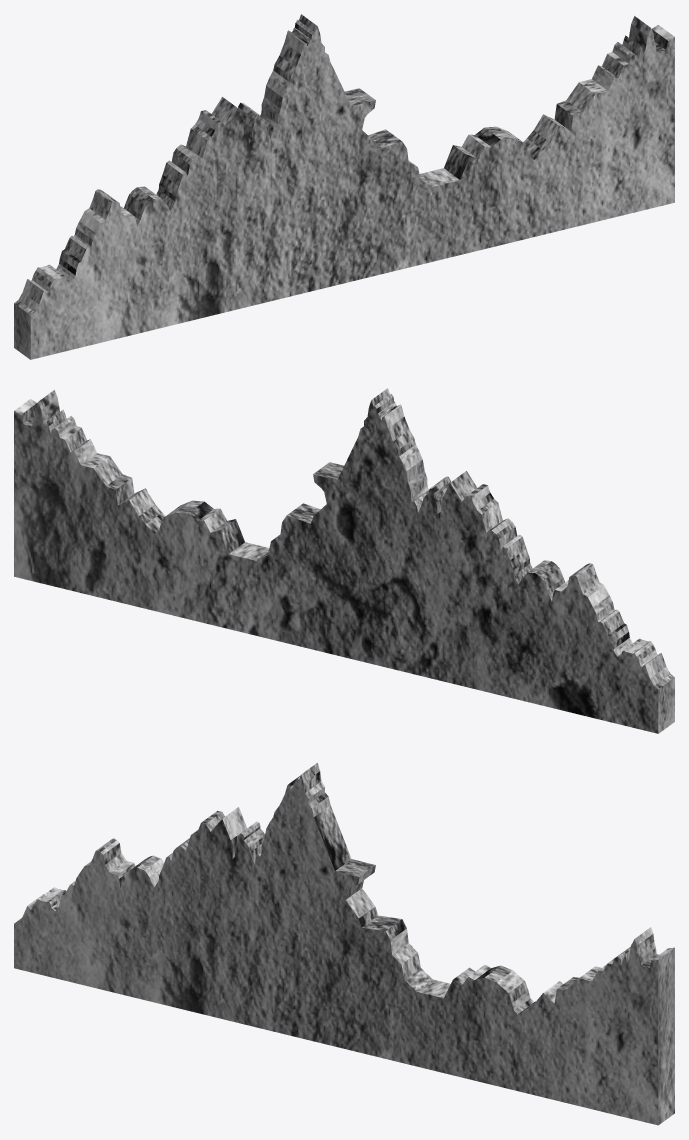
File: MOON.fbx
3 views of the same model, one above another, from view 1: azimuth 30°, elevation 25°; view 2: azimuth 150°, elevation 25°; view 3: azimuth 330°, elevation 25° (orthographic).
Parts seen in each view (by area): view 1: 物件_1; view 2: 物件_1; view 3: 物件_1.
Part boxes in pixels (<box>): 物件_1: <box>14,14,674,359</box>; 物件_1: <box>14,388,674,733</box>; 物件_1: <box>14,763,674,1125</box>.
Bounding box in the file's own units: 900 × 40 × 352.
Materials: 1 (1 with a texture image).
